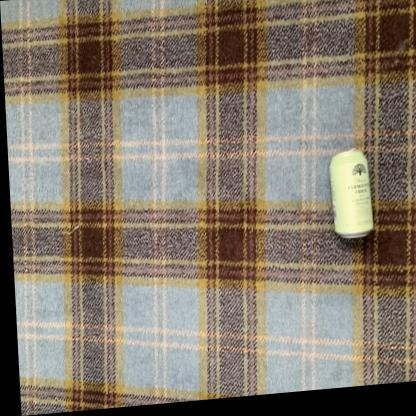trash: (329, 149, 372, 237)
